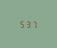five: (18, 19, 23, 27)
seven: (31, 20, 36, 28)
three: (25, 19, 30, 28)
